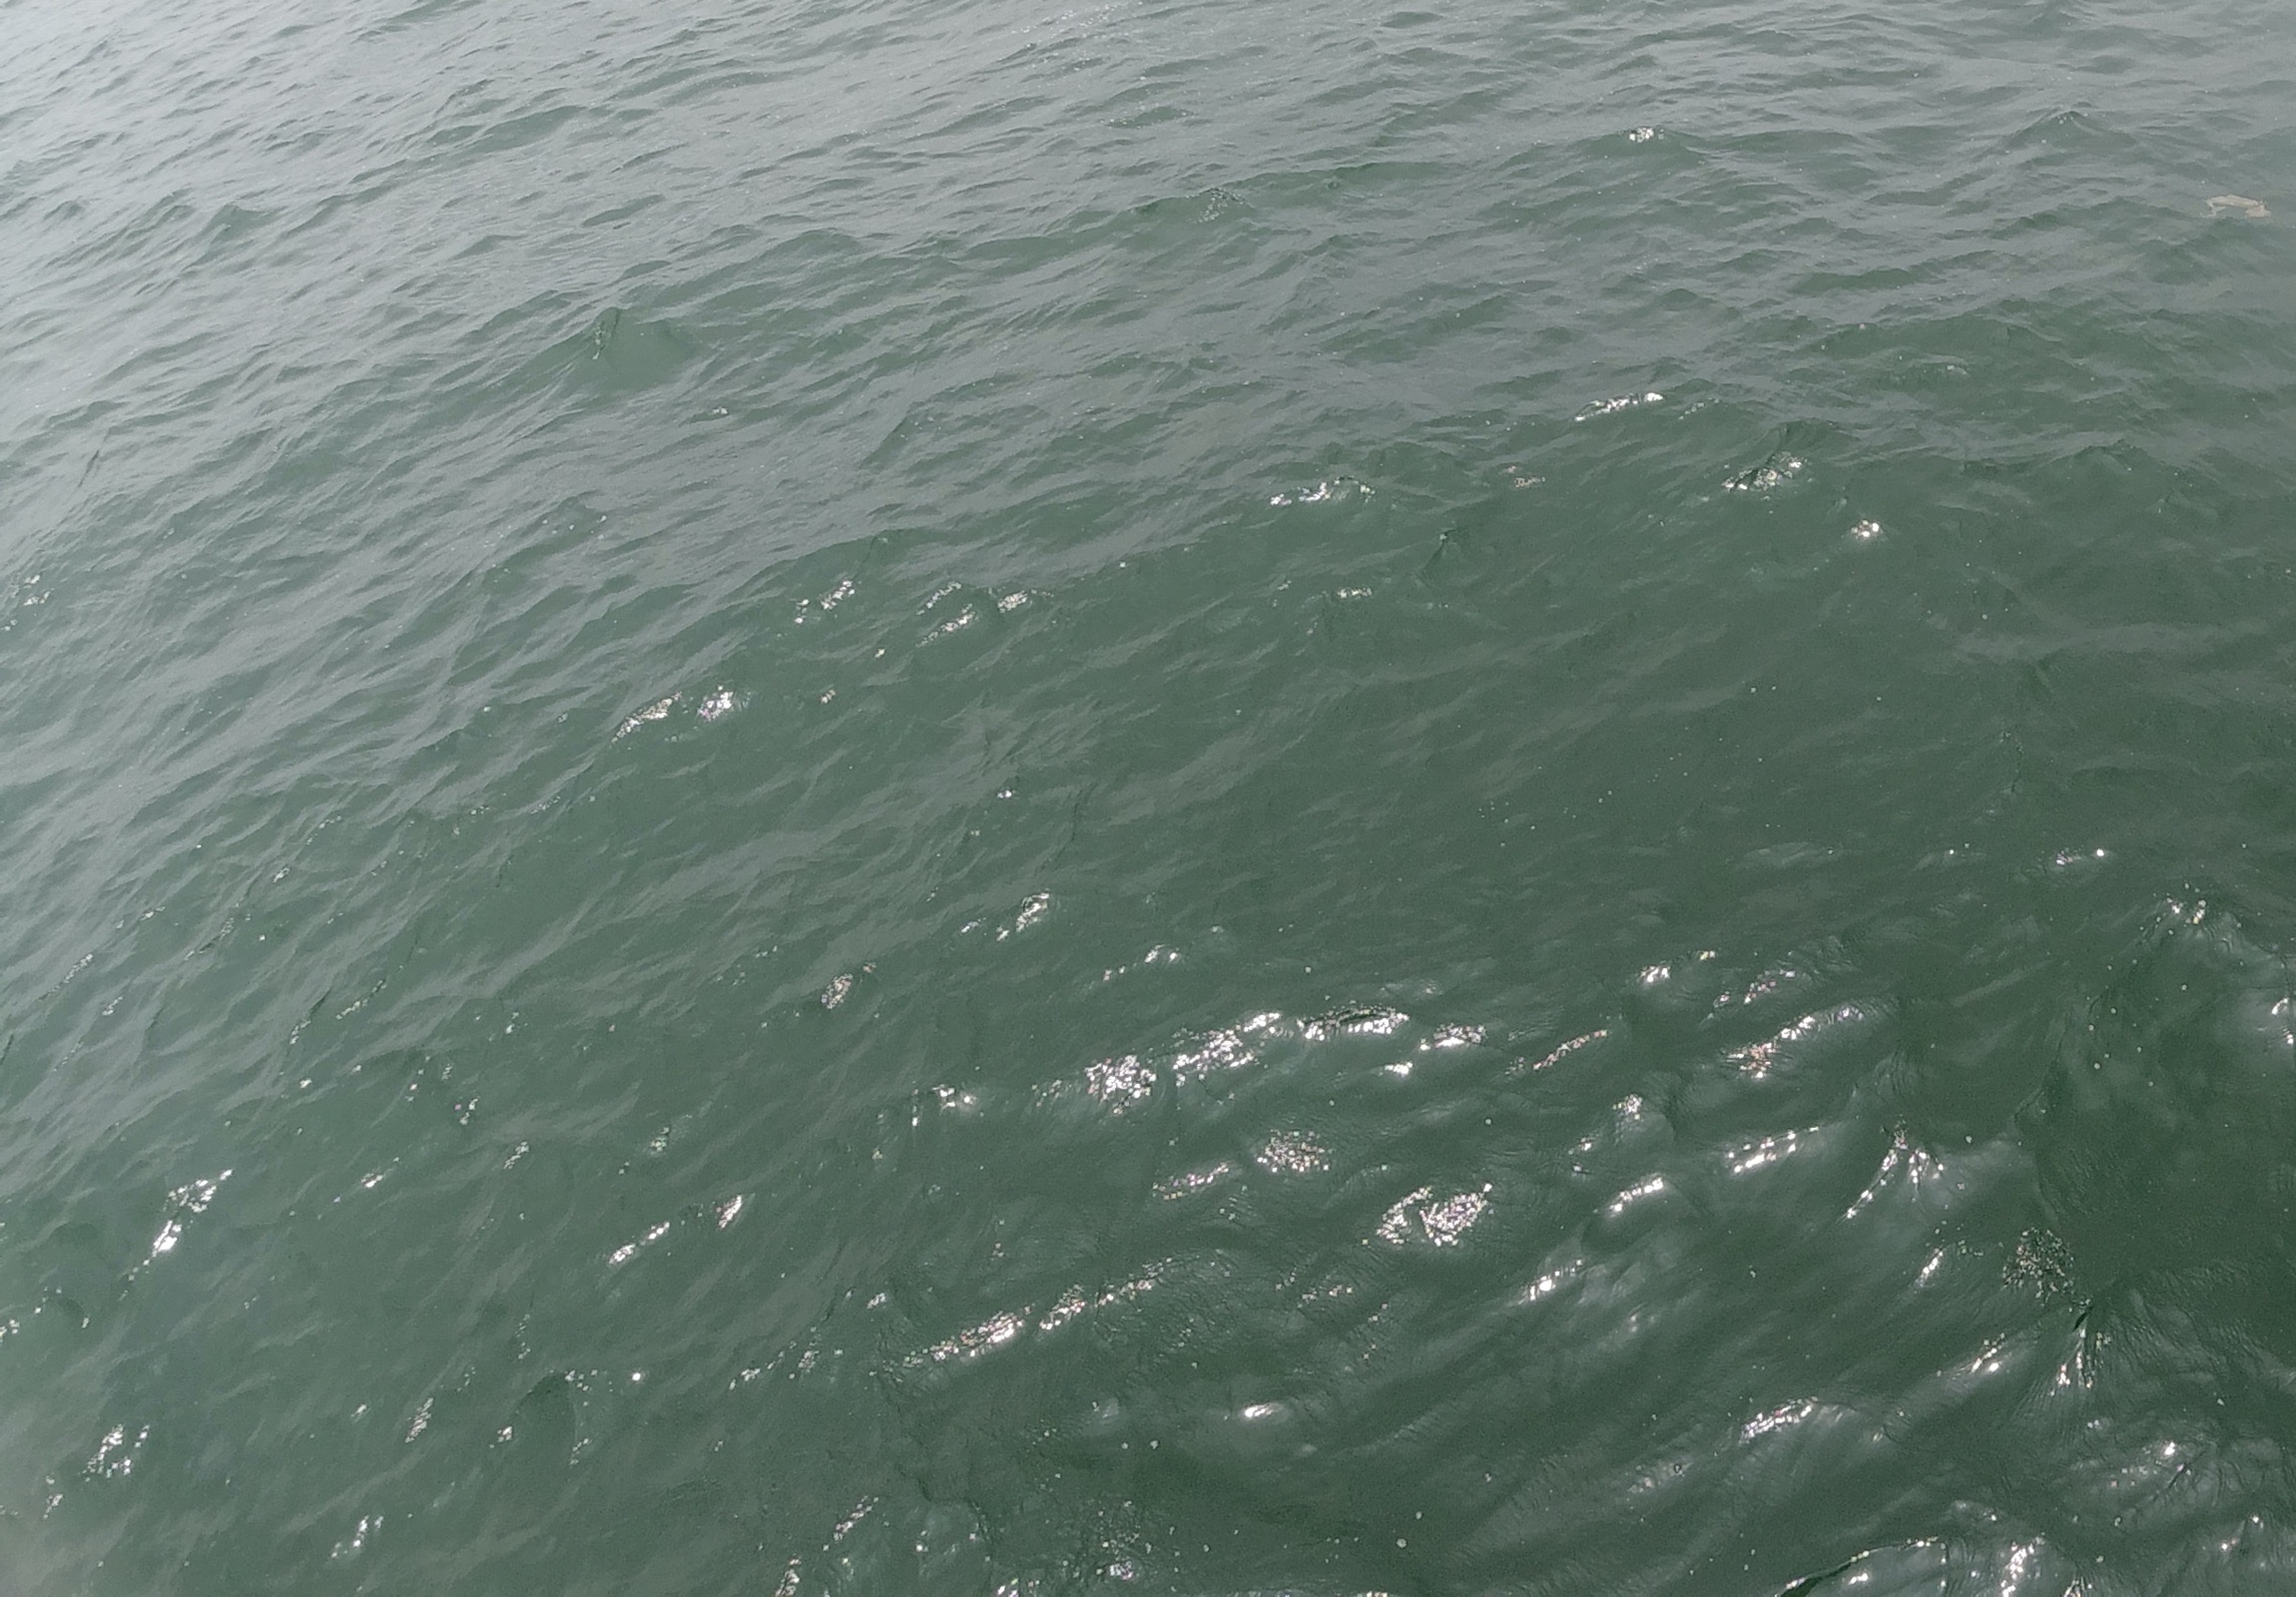plastic: (2193, 183, 2280, 237)
